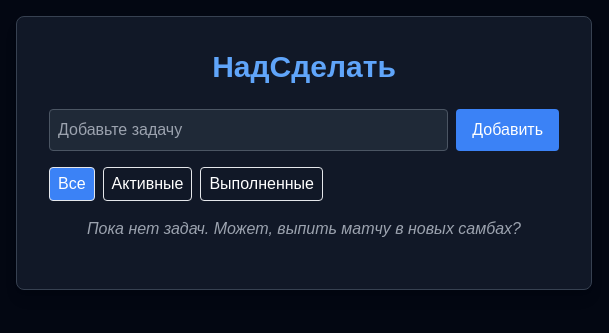
Test case: ToDo App › Добавление задачи через кнопку
Type "Новая задача" into the field with placeholder "Добавьте задачу" at (249, 130), box [49,109,448,151]
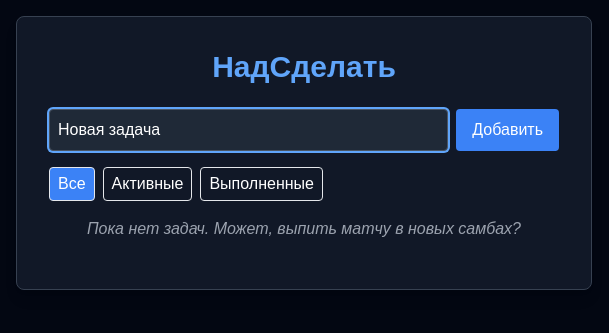
Click the button "Добавить" at (508, 130), box [456,109,559,151]
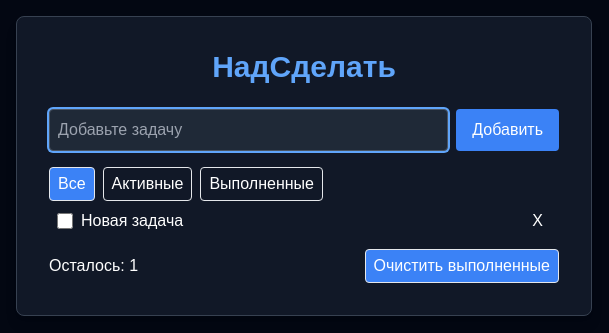
Check: the text "Новая задача" is shown, box [81,209,183,233]
